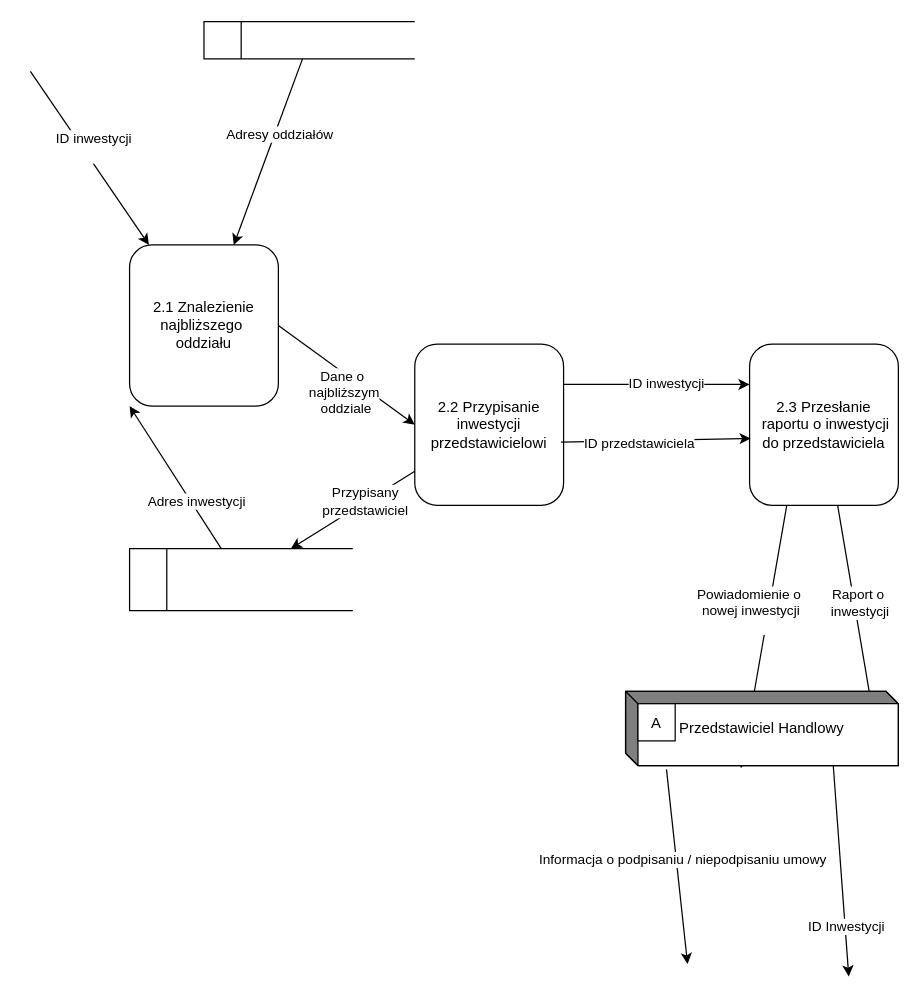
Image size: 920x1008. Some labels were removed from this diagram. The box of each missing label's shape, as (x1, y1, x2, y2) in pixels:
D2 Firmowa lista oddziałów: (203, 20, 415, 59)
D3 Firmowa lista inwestycji: (128, 547, 353, 611)
